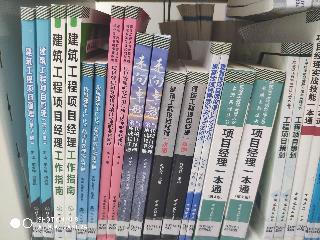book-spine: (217, 67, 285, 240), (192, 67, 255, 240), (126, 36, 170, 240), (186, 43, 231, 240), (111, 33, 153, 240), (178, 43, 222, 240), (159, 71, 208, 240), (274, 43, 313, 240), (285, 21, 320, 240), (263, 42, 301, 240), (105, 7, 137, 240), (143, 73, 186, 240), (94, 6, 124, 240), (21, 7, 42, 240), (62, 6, 81, 240), (37, 6, 53, 240), (86, 63, 106, 240), (52, 5, 65, 240), (76, 63, 92, 239)
